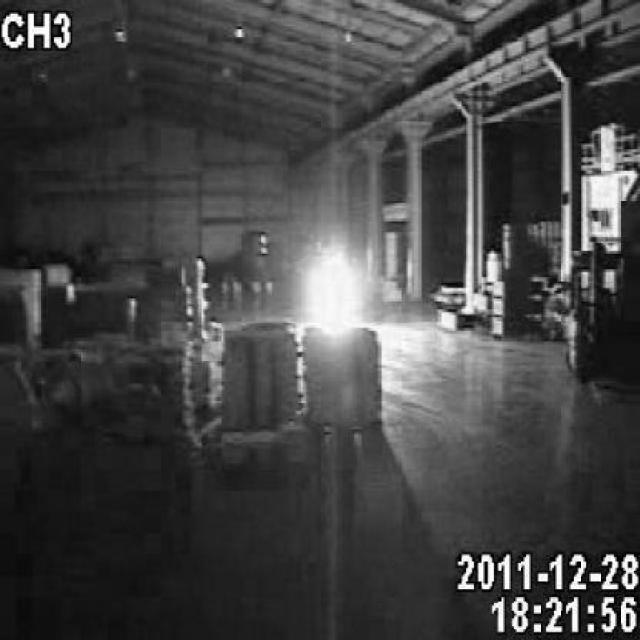smoke: (307, 246, 358, 340)
